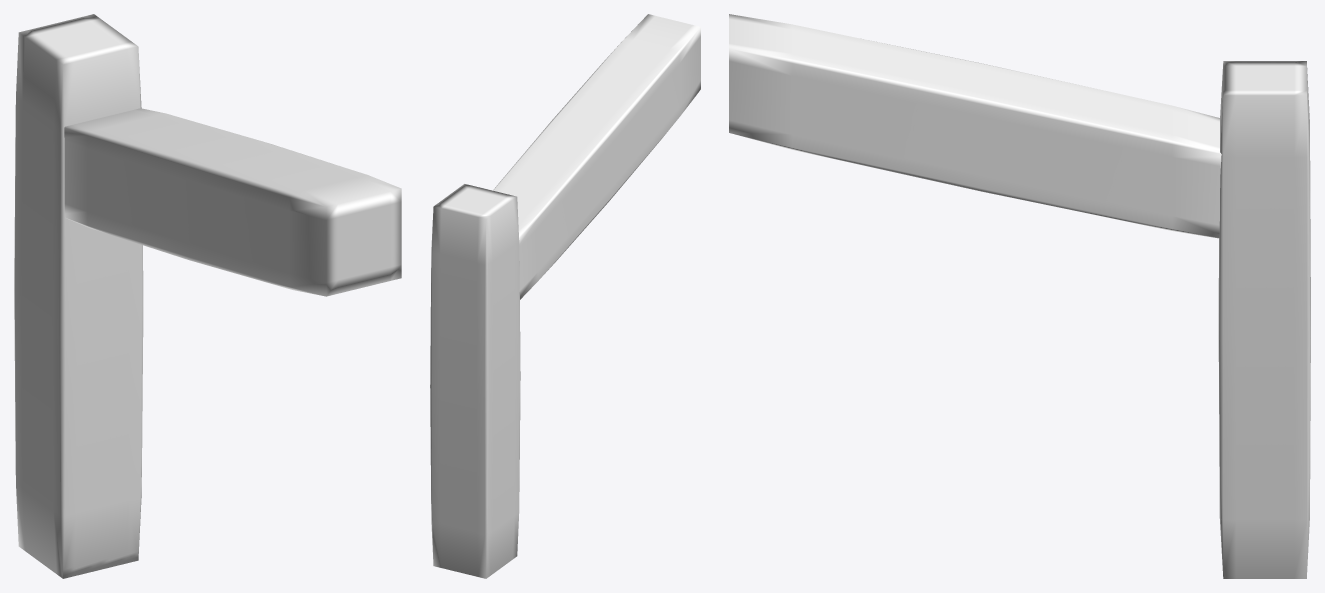
Rendered from Sink_Tap.fbx.
3 renders of one model, left to right at view 1: azimuth 30°, elevation 25°; view 2: azimuth 150°, elevation 25°; view 3: azimuth 270°, elevation 25°, orthographic. The views are drawn at different scales.
Visible parts, largest first — view 1: polySurface7; view 2: polySurface7; view 3: polySurface7.
Boxes of the visible parts, box(x1,y1,x2,y2) form: polySurface7: box(14, 14, 401, 578); polySurface7: box(430, 14, 700, 578); polySurface7: box(729, 14, 1310, 578).
Bounding box in the file's own units: 0.6906 × 4.47 × 4.45.
